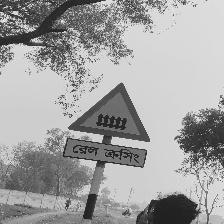Rail-crossing: (63, 83, 150, 168)
